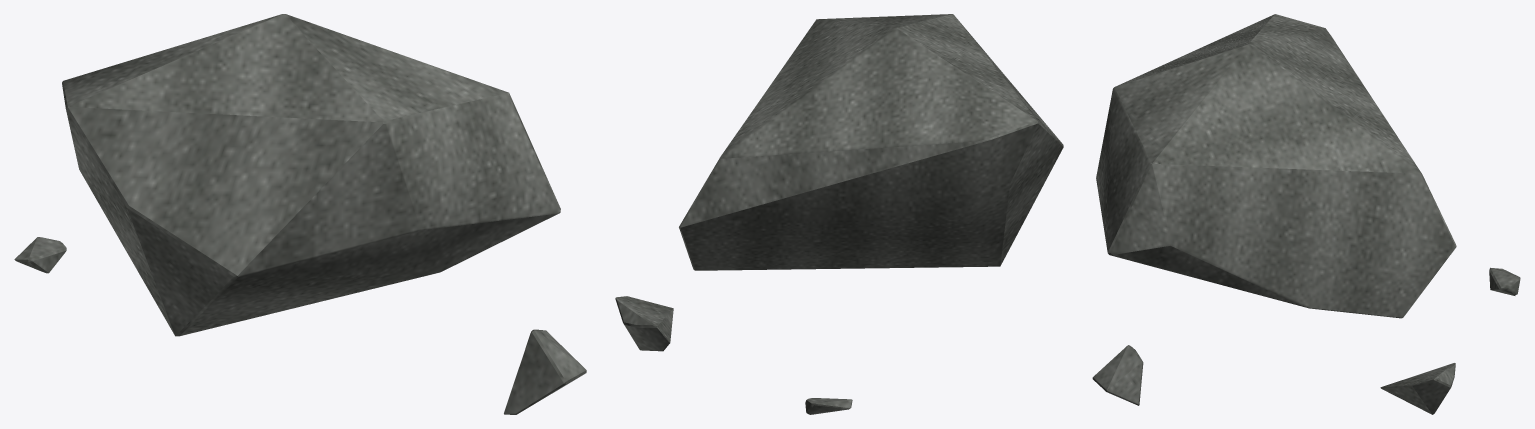
The model's file is boulder_20.glb.
3 views of the same model, side by side, from view 1: azimuth 30°, elevation 25°; view 2: azimuth 150°, elevation 25°; view 3: azimuth 270°, elevation 25° (orthographic). The views are drawn at different scales.
Parts seen in each view (by area): view 1: boulder_20_c0; view 2: boulder_20_c0; view 3: boulder_20_c0.
Boxes of the visible parts, <box> form: boulder_20_c0: <box>14,14,586,414</box>; boulder_20_c0: <box>615,14,1063,414</box>; boulder_20_c0: <box>1092,14,1520,414</box>.
Bounding box in the file's own units: 1.41 × 1.17 × 1.54.
1 material, 1 textured.
